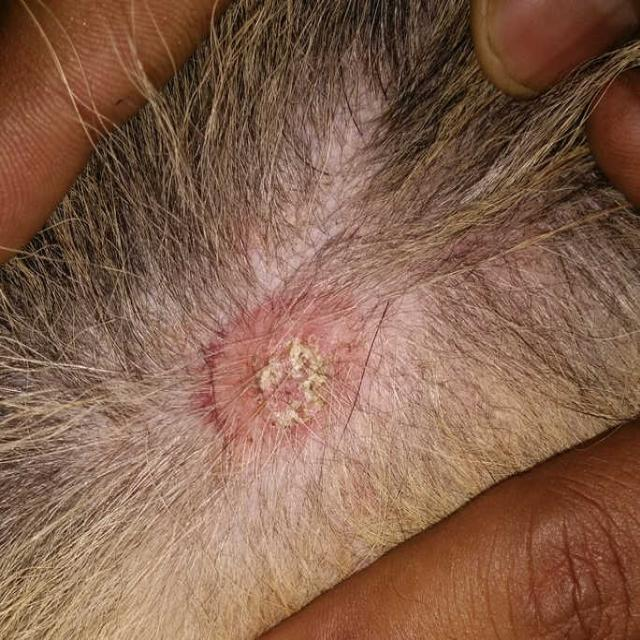fungal infection: (111, 188, 474, 512)
